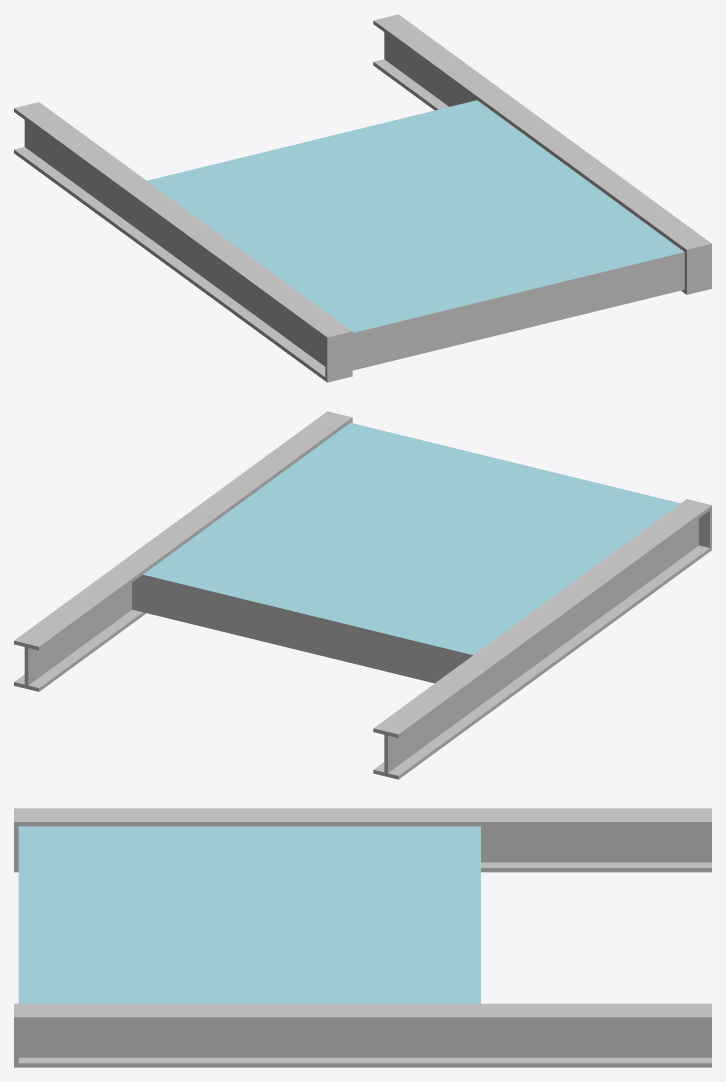
File: wall_v3.glb
3 renders of one model, top to bottom at view 1: azimuth 30°, elevation 25°; view 2: azimuth 150°, elevation 25°; view 3: azimuth 270°, elevation 25°, orthographic. The views are drawn at different scales.
Parts seen in each view (by area): view 1: Wall_v3_v3; view 2: Wall_v3_v3; view 3: Wall_v3_v3.
Boxes of the visible parts, x1=… form: Wall_v3_v3: x1=14, y1=14, x2=711, y2=382; Wall_v3_v3: x1=14, y1=411, x2=711, y2=779; Wall_v3_v3: x1=14, y1=808, x2=711, y2=1067.
Size of the model in its own units: 107 by 12 by 151.
